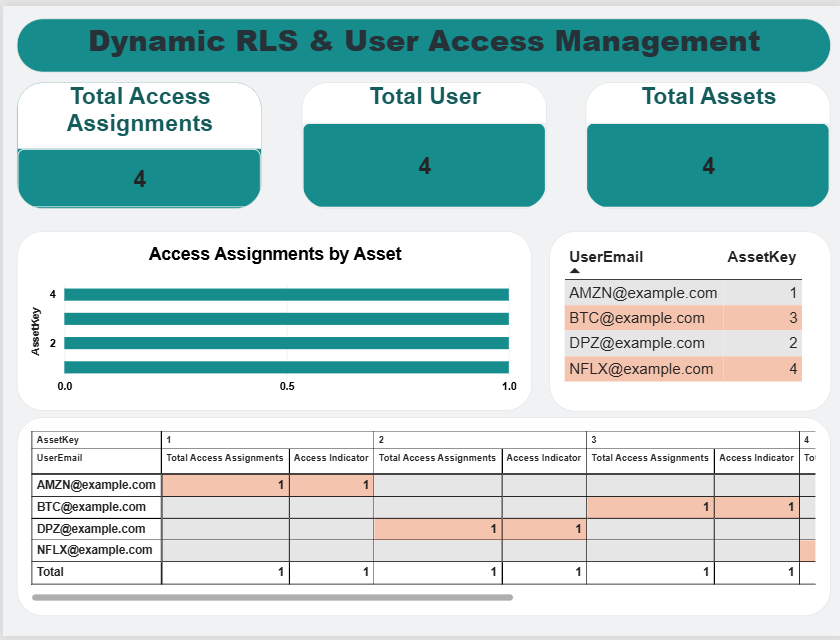

What the dashboard file says about the page in this screenshot:
{"tool":"powerbi","page":{"name":"Security & User Access","canvas":[960,720],"ordinal":2},"visuals":[{"type":"cardVisual","title":"Total User","fields":{"Data":["User_Asset_Access.Total Users"]},"box":[341.4,87.1,280,145],"z":0},{"type":"cardVisual","title":"Total Assets","fields":{"Data":["Dim_Asset.Total Assets"]},"box":[665.7,87.1,280,145],"z":1000},{"type":"cardVisual","title":"Total Access Assignments","fields":{"Data":["User_Asset_Access.Total Access Assignments"]},"box":[15.7,87.1,280,145],"z":2000},{"type":"tableEx","fields":{"Values":["User_Asset_Access.UserEmail","User_Asset_Access.AssetKey"]},"box":[624.3,257.1,322.5,206.2],"z":3000},{"type":"pivotTable","fields":{"Columns":["User_Asset_Access.AssetKey"],"Rows":["User_Asset_Access.UserEmail"],"Values":["User_Asset_Access.Total Access Assignments","User_Asset_Access.Access Indicator"]},"box":[16.2,470,930,227.5],"z":4000},{"type":"textbox","title":"Dynamic RLS & User Access Management","box":[15.7,14.3,930,61.4],"z":5000},{"type":"clusteredBarChart","title":"Access Assignments by Asset","fields":{"Category":["User_Asset_Access.AssetKey"],"Y":["CountNonNull(User_Asset_Access.AssetKey)"]},"box":[15.7,257.1,588.6,205.7],"z":6000}]}

Visuals, with their boxes in screenshot pixels (x1, y1, x2, y2), scaled from the page's 960x720 canvas onto the 840x640 screenshot:
"Total User" cardVisual: 299/77/544/206
"Total Assets" cardVisual: 582/77/827/206
"Total Access Assignments" cardVisual: 14/77/259/206
tableEx - User_Asset_Access.UserEmail x User_Asset_Access.AssetKey: 546/229/828/412
pivotTable - User_Asset_Access.AssetKey x User_Asset_Access.UserEmail: 14/418/828/620
"Dynamic RLS & User Access Management" textbox: 14/13/827/67
"Access Assignments by Asset" clusteredBarChart: 14/229/529/411
